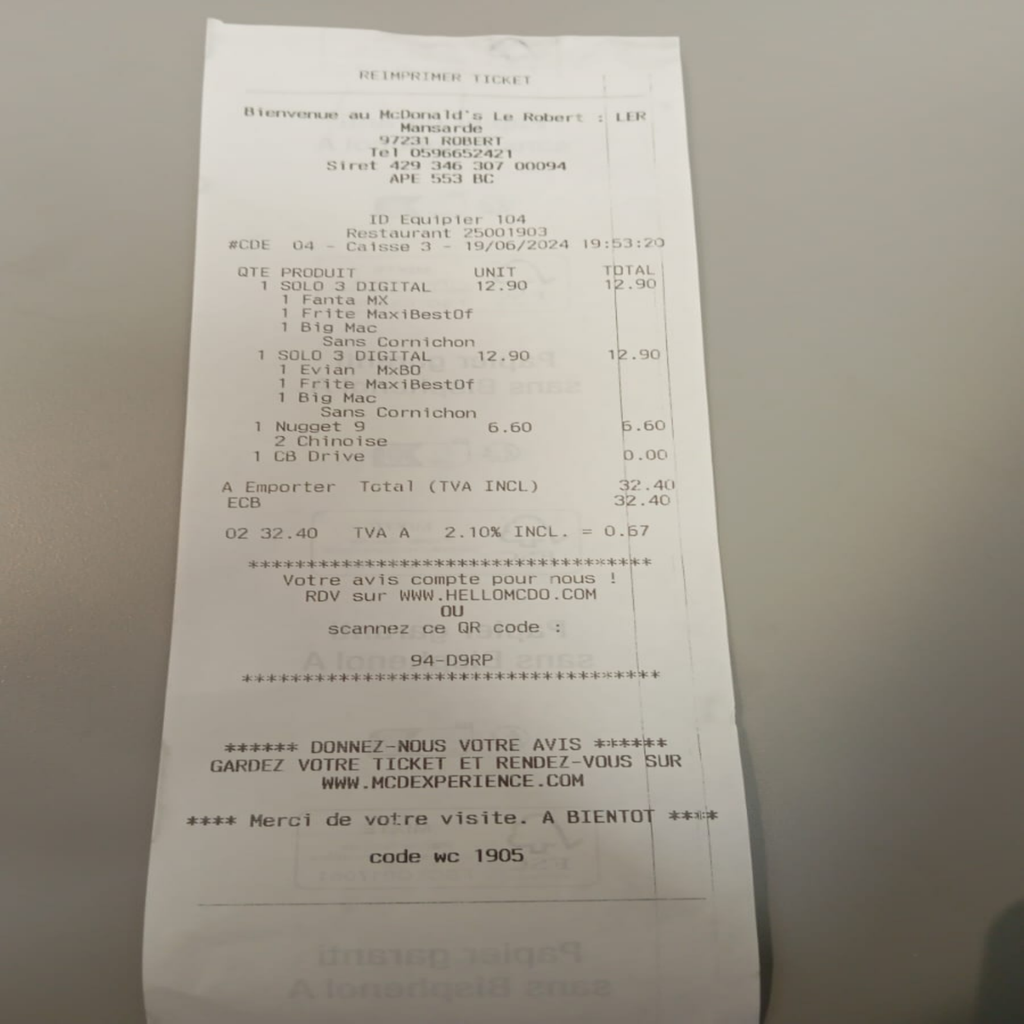recipt: (141, 23, 764, 1007)
